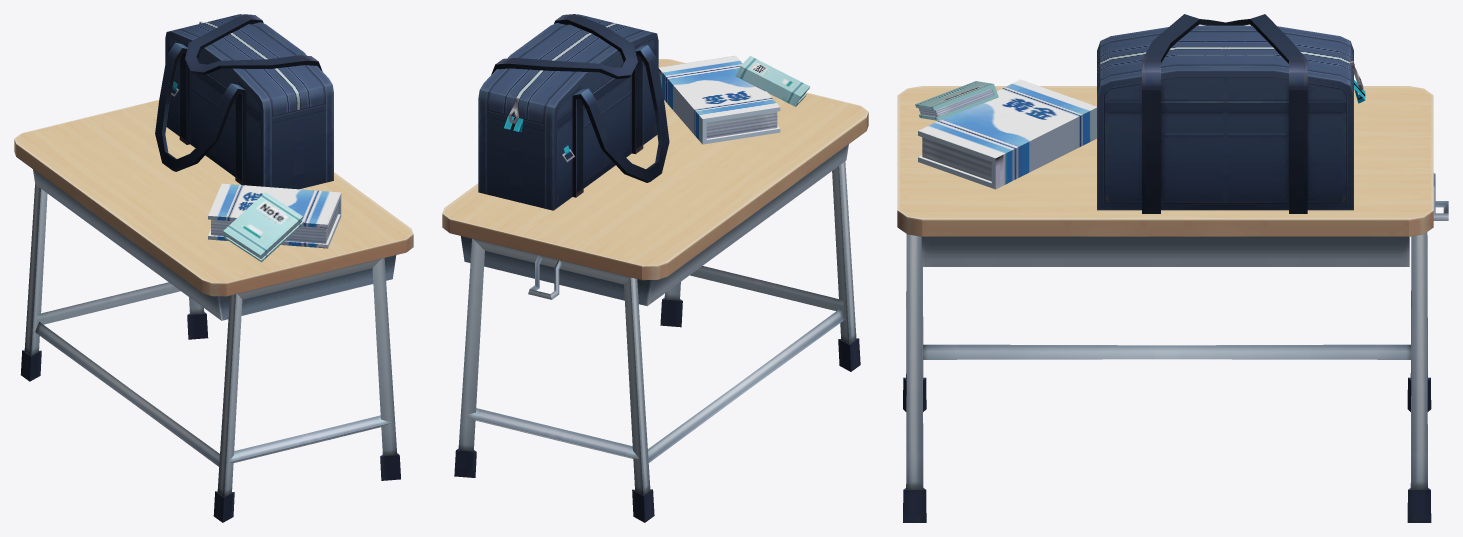
File: my_abydosclassroom_01_desk_07.glb
The picture shows the model from 3 angles, left to right: view 1: azimuth 30°, elevation 25°; view 2: azimuth 150°, elevation 25°; view 3: azimuth 270°, elevation 25°; orthographic projection. The views are drawn at different scales.
Visible parts, largest first — view 1: my_abydosclassroom_01_desk_07; view 2: my_abydosclassroom_01_desk_07; view 3: my_abydosclassroom_01_desk_07.
Boxes of the visible parts, x1,y1,x2,y2 form: my_abydosclassroom_01_desk_07: (14,14,413,522); my_abydosclassroom_01_desk_07: (442,14,868,522); my_abydosclassroom_01_desk_07: (897,14,1448,522).
Bounding box in the file's own units: 0.00378 × 0.0061 × 0.00658.
2 materials, 2 textured.
